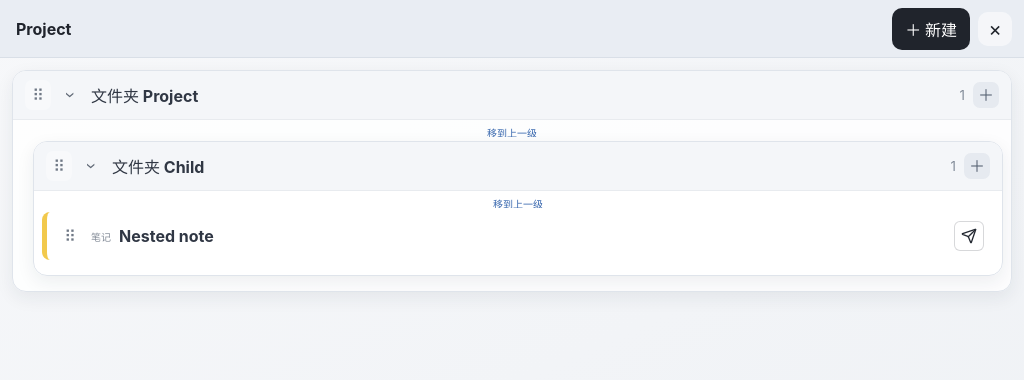
Test: DetachedFolder › opens the item context menu inside a detached folder
Right-click the text "Nested note": (166, 236) 119,226 -> 214,246
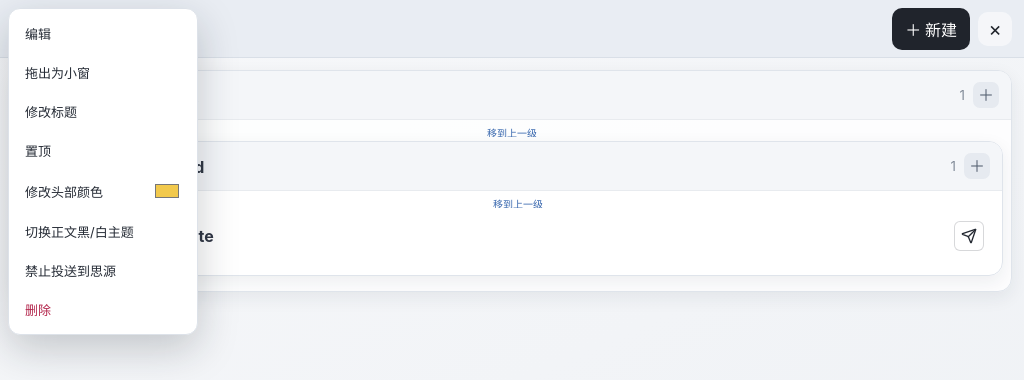
Expected: the menu item "编辑" is shown, 15,15 -> 191,52
